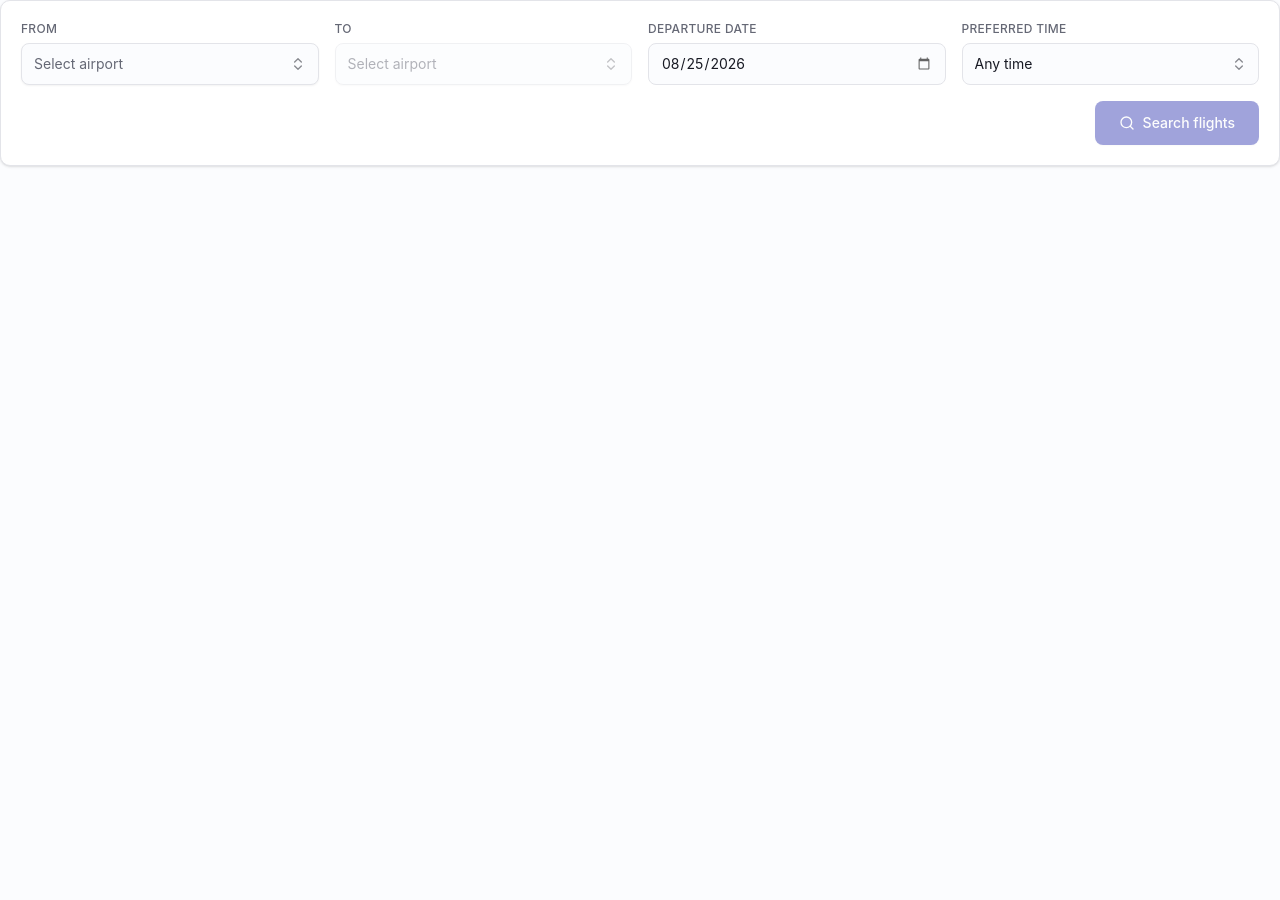
SearchForm › clears a destination the new origin cannot reach
Click the dropdown named "From" at (78, 64), box [21,43,318,85]
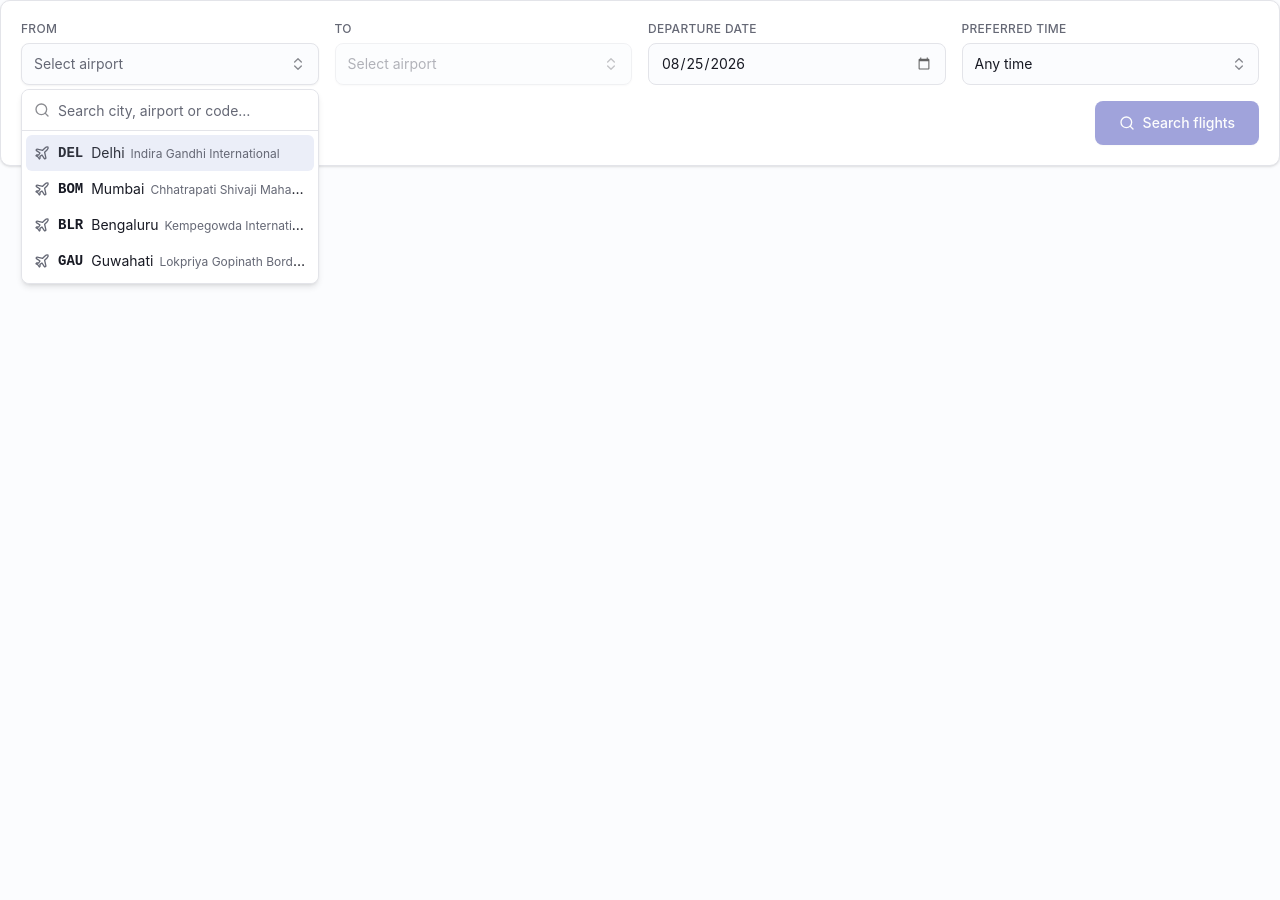
Click the option "Delhi" at (170, 153), box [26,135,314,171]
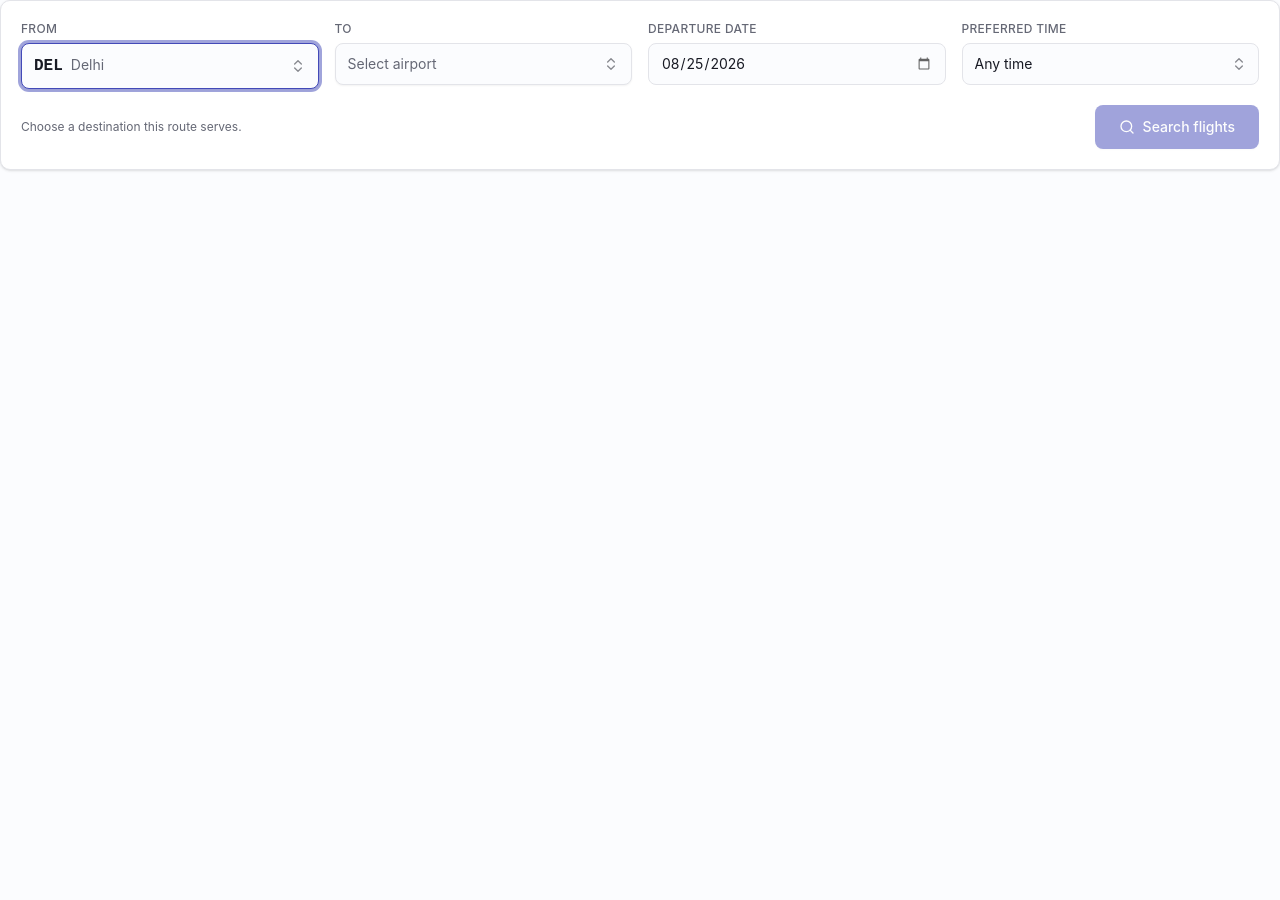
Click the dropdown named "To" at (392, 64), box [334,43,632,85]
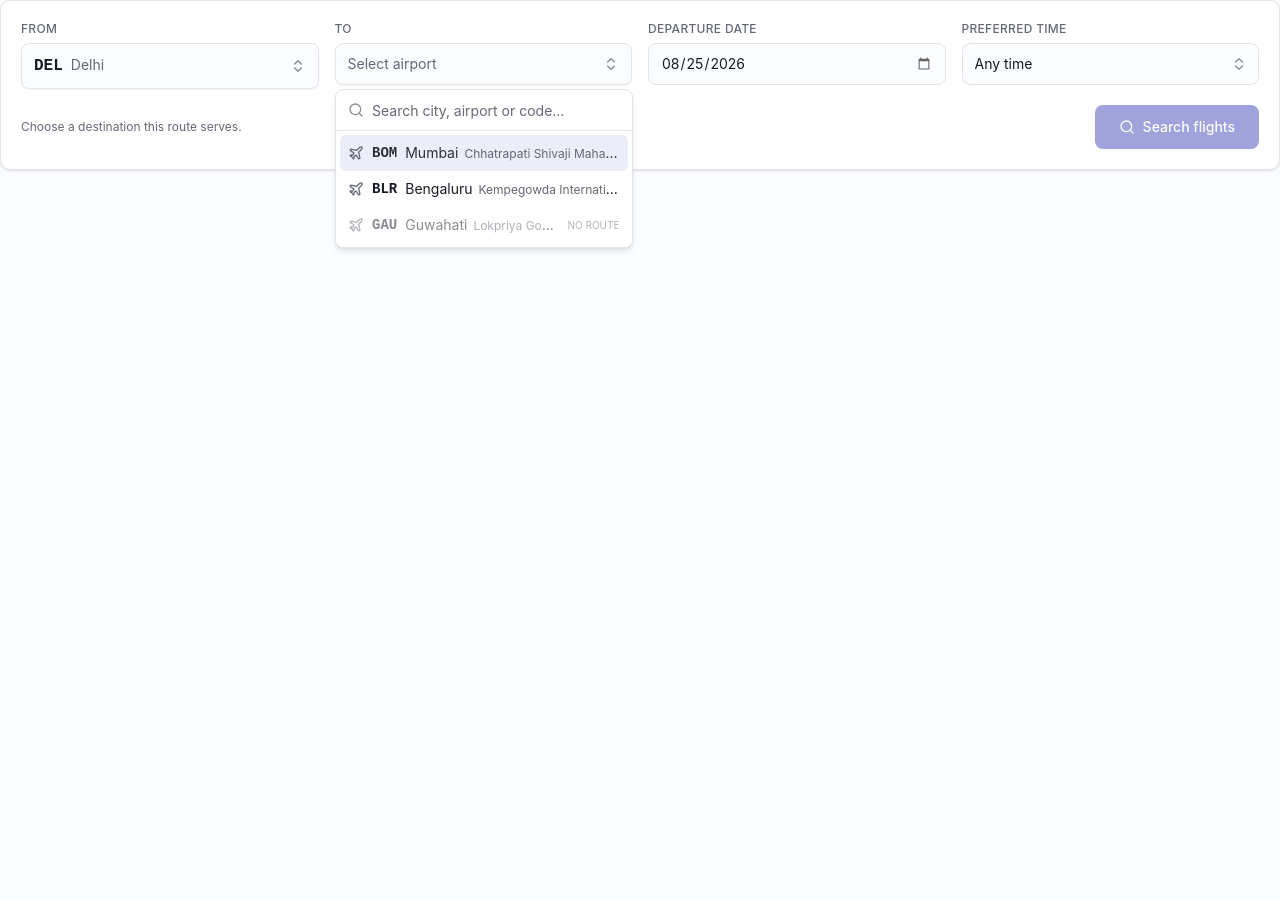
Click the option "Bengaluru" at (489, 188), box [348,180,630,197]
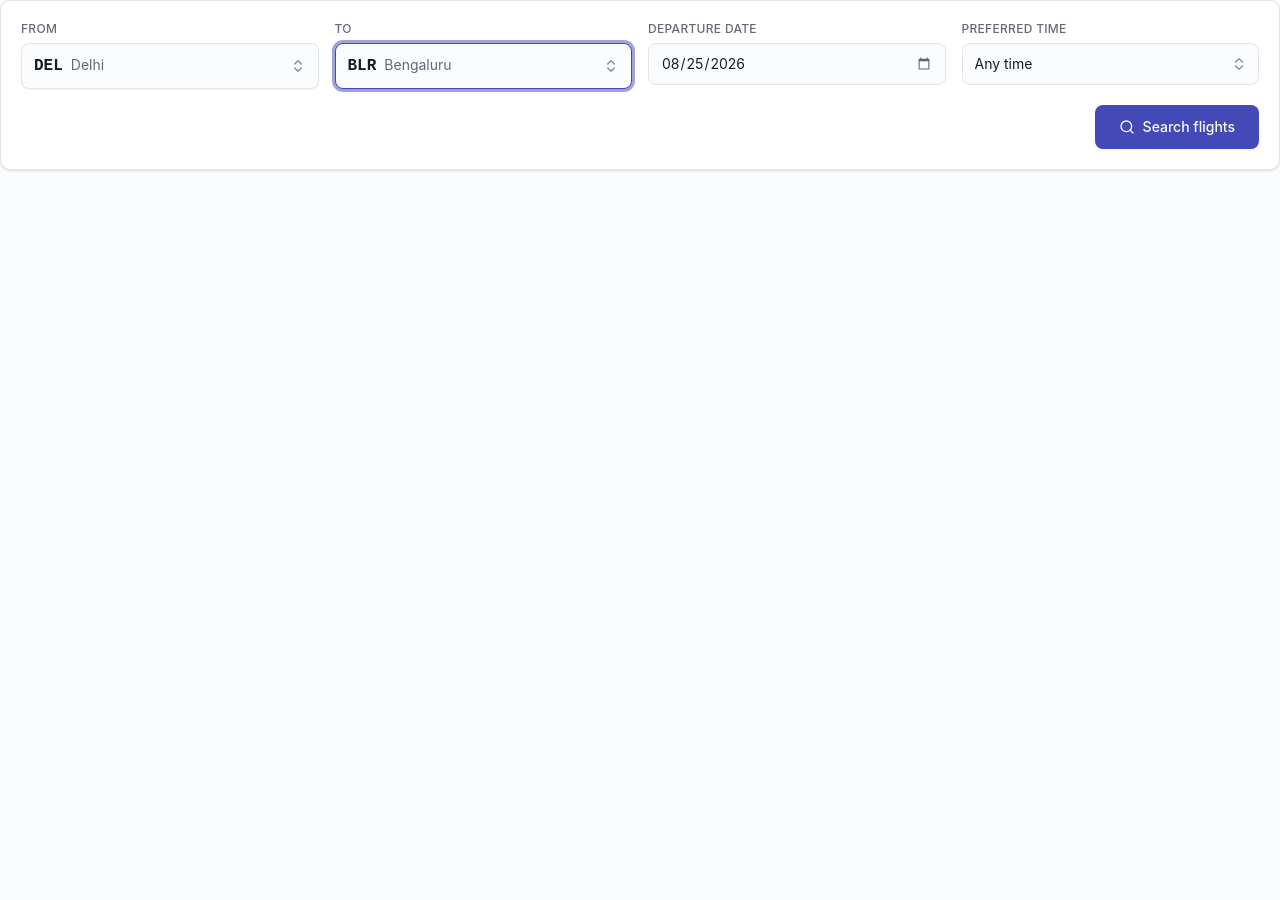
Expected: the dropdown named "To" shows "BLR", [334,43,632,89]
Click the dropdown named "From" at (87, 64), box [21,43,318,89]
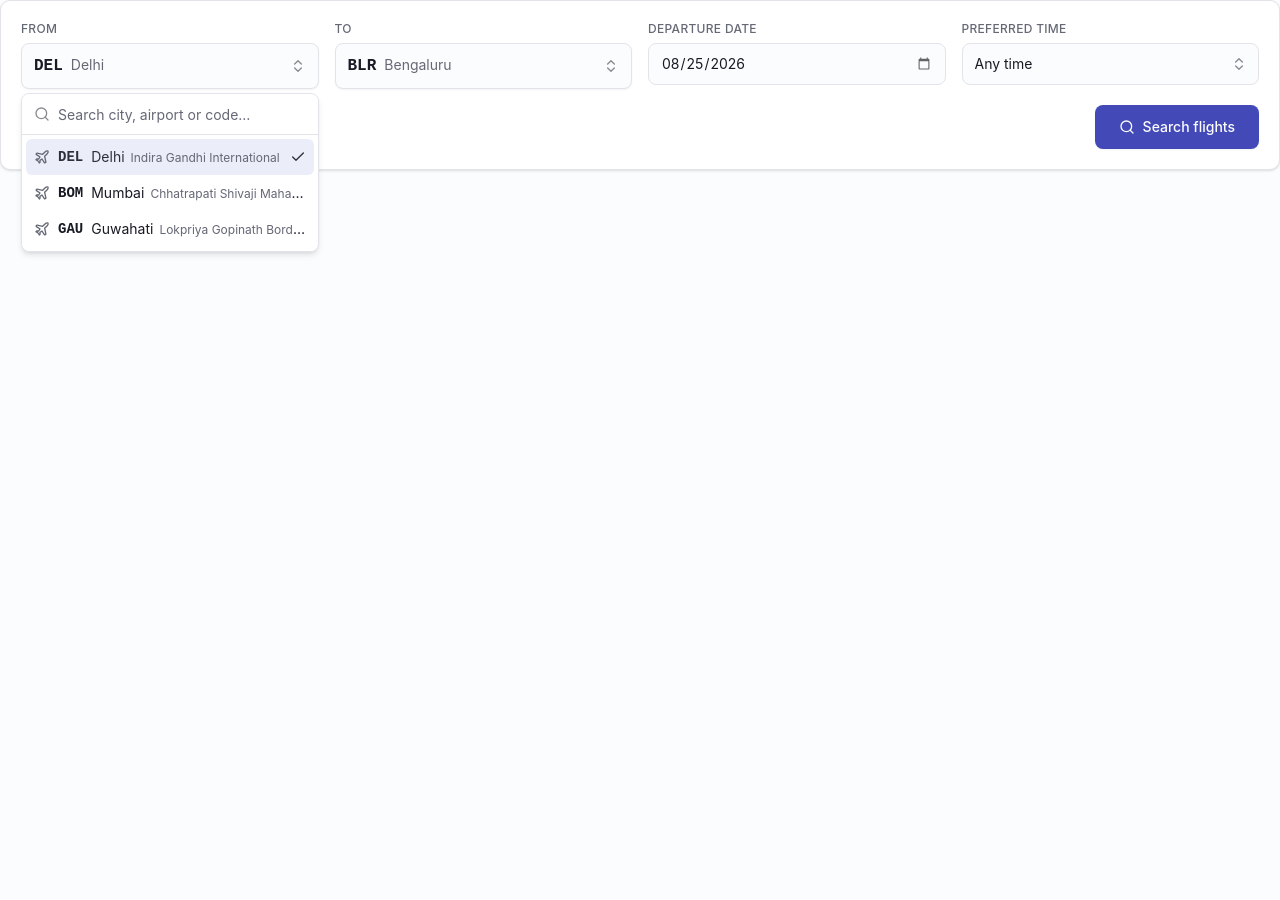
Click the option "Mumbai" at (207, 192), box [34,184,379,201]
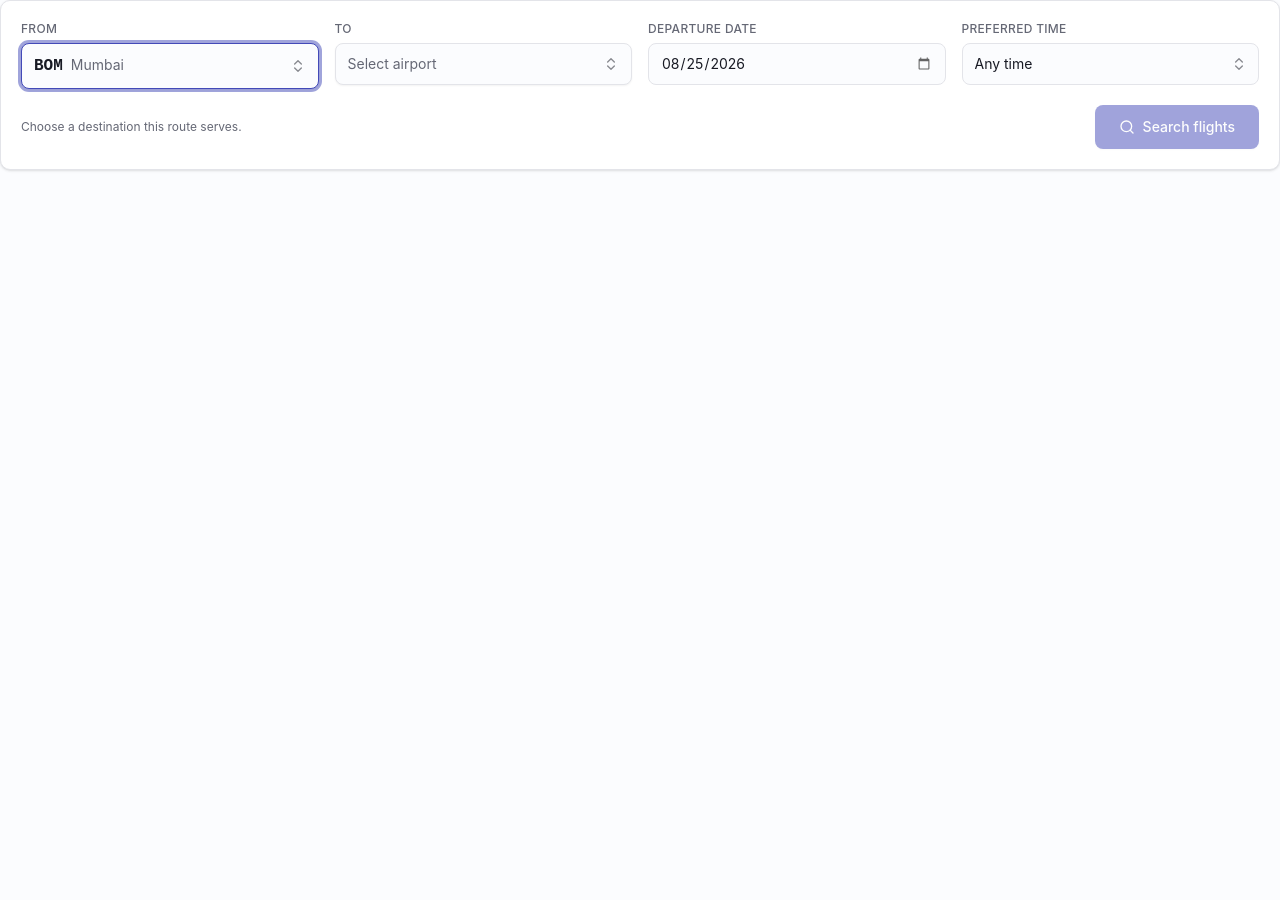
Expected: the dropdown named "To" reads "Select airport", [334,43,632,85]
Expected: the button "Search flights" is disabled, [1095,105,1259,149]
